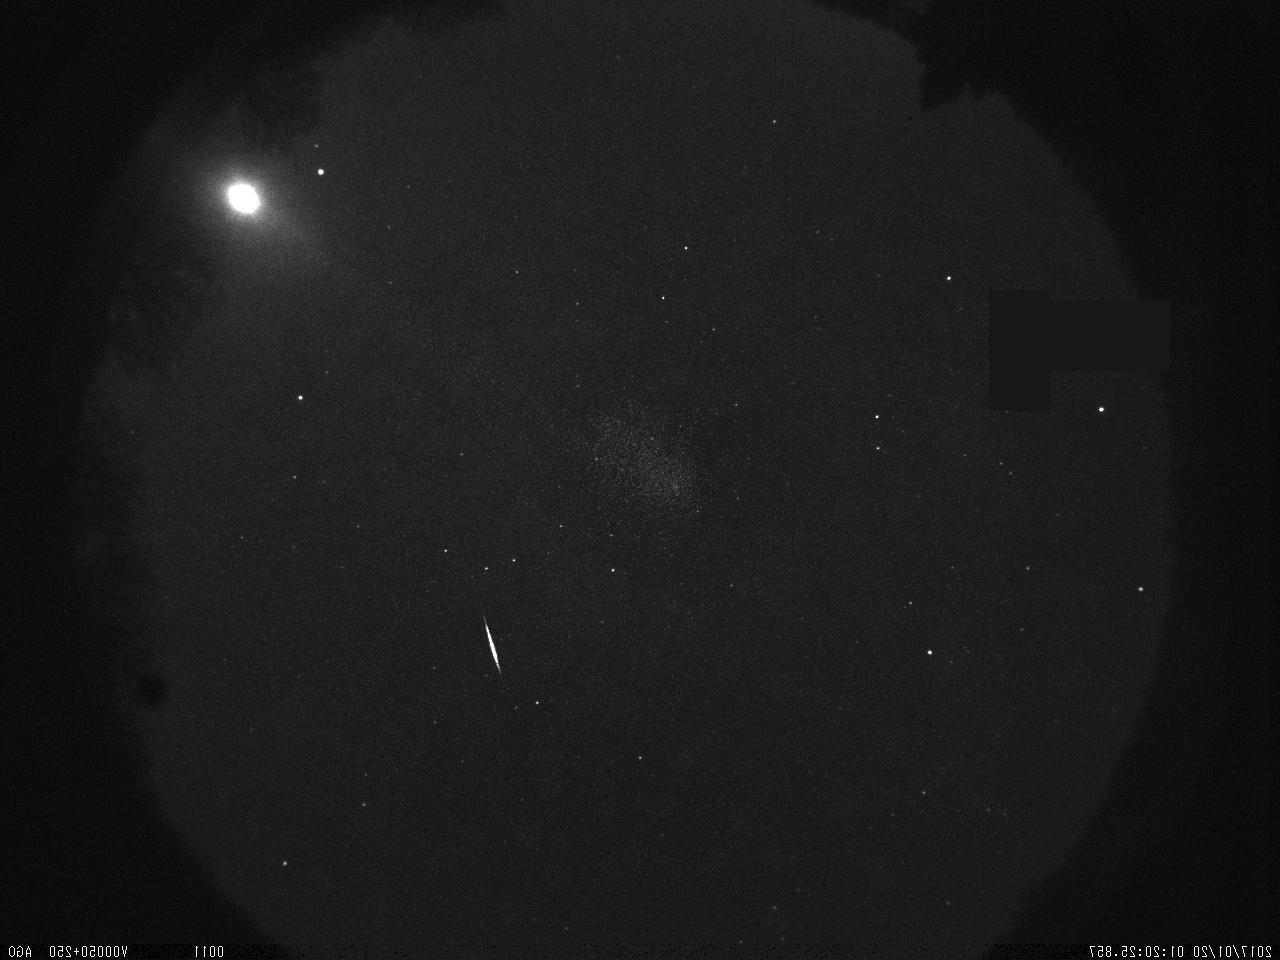meteor: (475, 602, 506, 684)
